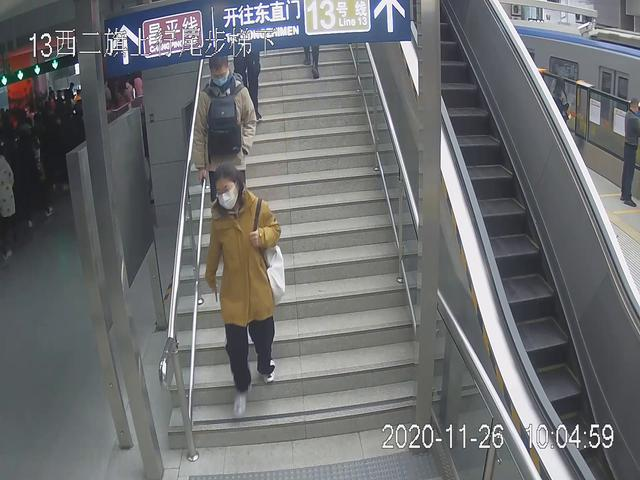person: (201, 162, 289, 422), (191, 43, 258, 240)
